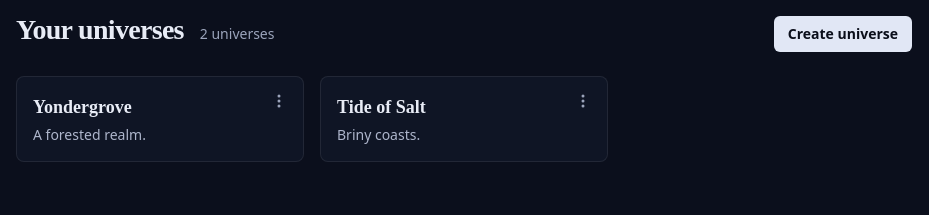
Test case: UniverseList view › opens the menu with Settings and Delete… items and does not navigate (Test B)
The width and height of the screenshot is (929, 215).
Expected: the heading "Yondergrove" is shown, [33,97,132,117]
Click the button named "actions for yondergrove" at (279, 101), box [263,85,295,117]
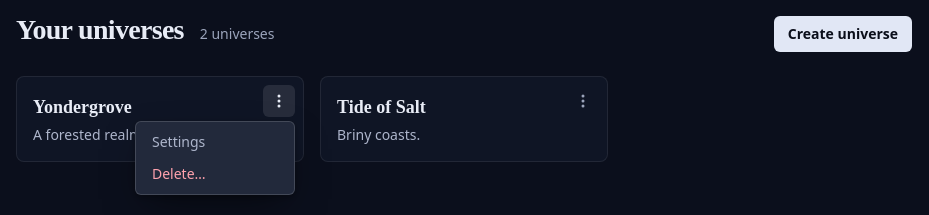
Expected: the heading "Yondergrove" is shown, [33,97,132,117]
Expected: the menu item "Settings" is shown, [152,132,205,151]
Expected: the menu item "Delete…" is shown, [152,164,206,183]
